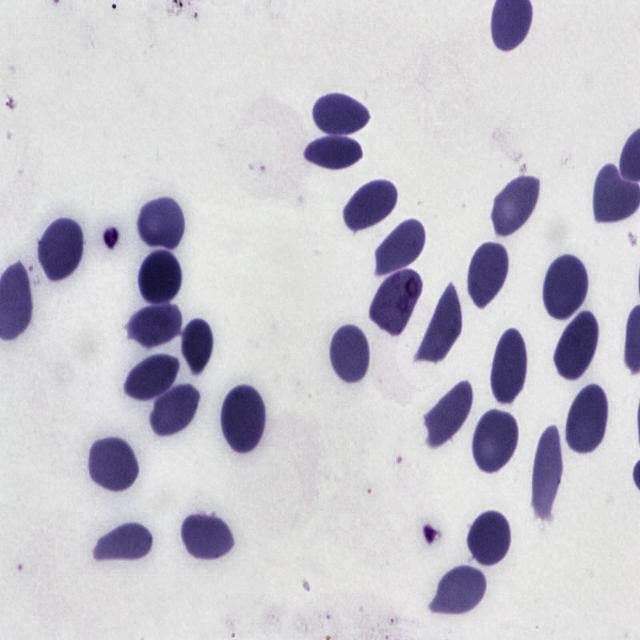red blood cell: (418, 284, 463, 361), (471, 407, 522, 474), (37, 215, 86, 284), (542, 252, 590, 322), (565, 382, 611, 452), (428, 384, 474, 454), (554, 311, 600, 380), (221, 386, 265, 455), (376, 217, 426, 276), (489, 331, 527, 408), (468, 246, 512, 312), (493, 176, 539, 238), (533, 424, 562, 520), (330, 321, 372, 386), (467, 509, 513, 568), (89, 438, 139, 492), (181, 512, 235, 561), (312, 92, 371, 136), (125, 352, 180, 399), (138, 250, 183, 306), (344, 180, 396, 228), (128, 303, 182, 349), (151, 384, 199, 435), (93, 522, 154, 561), (437, 564, 486, 612), (138, 197, 186, 245), (179, 315, 215, 375), (304, 135, 362, 170)
ring: (370, 265, 421, 337)
